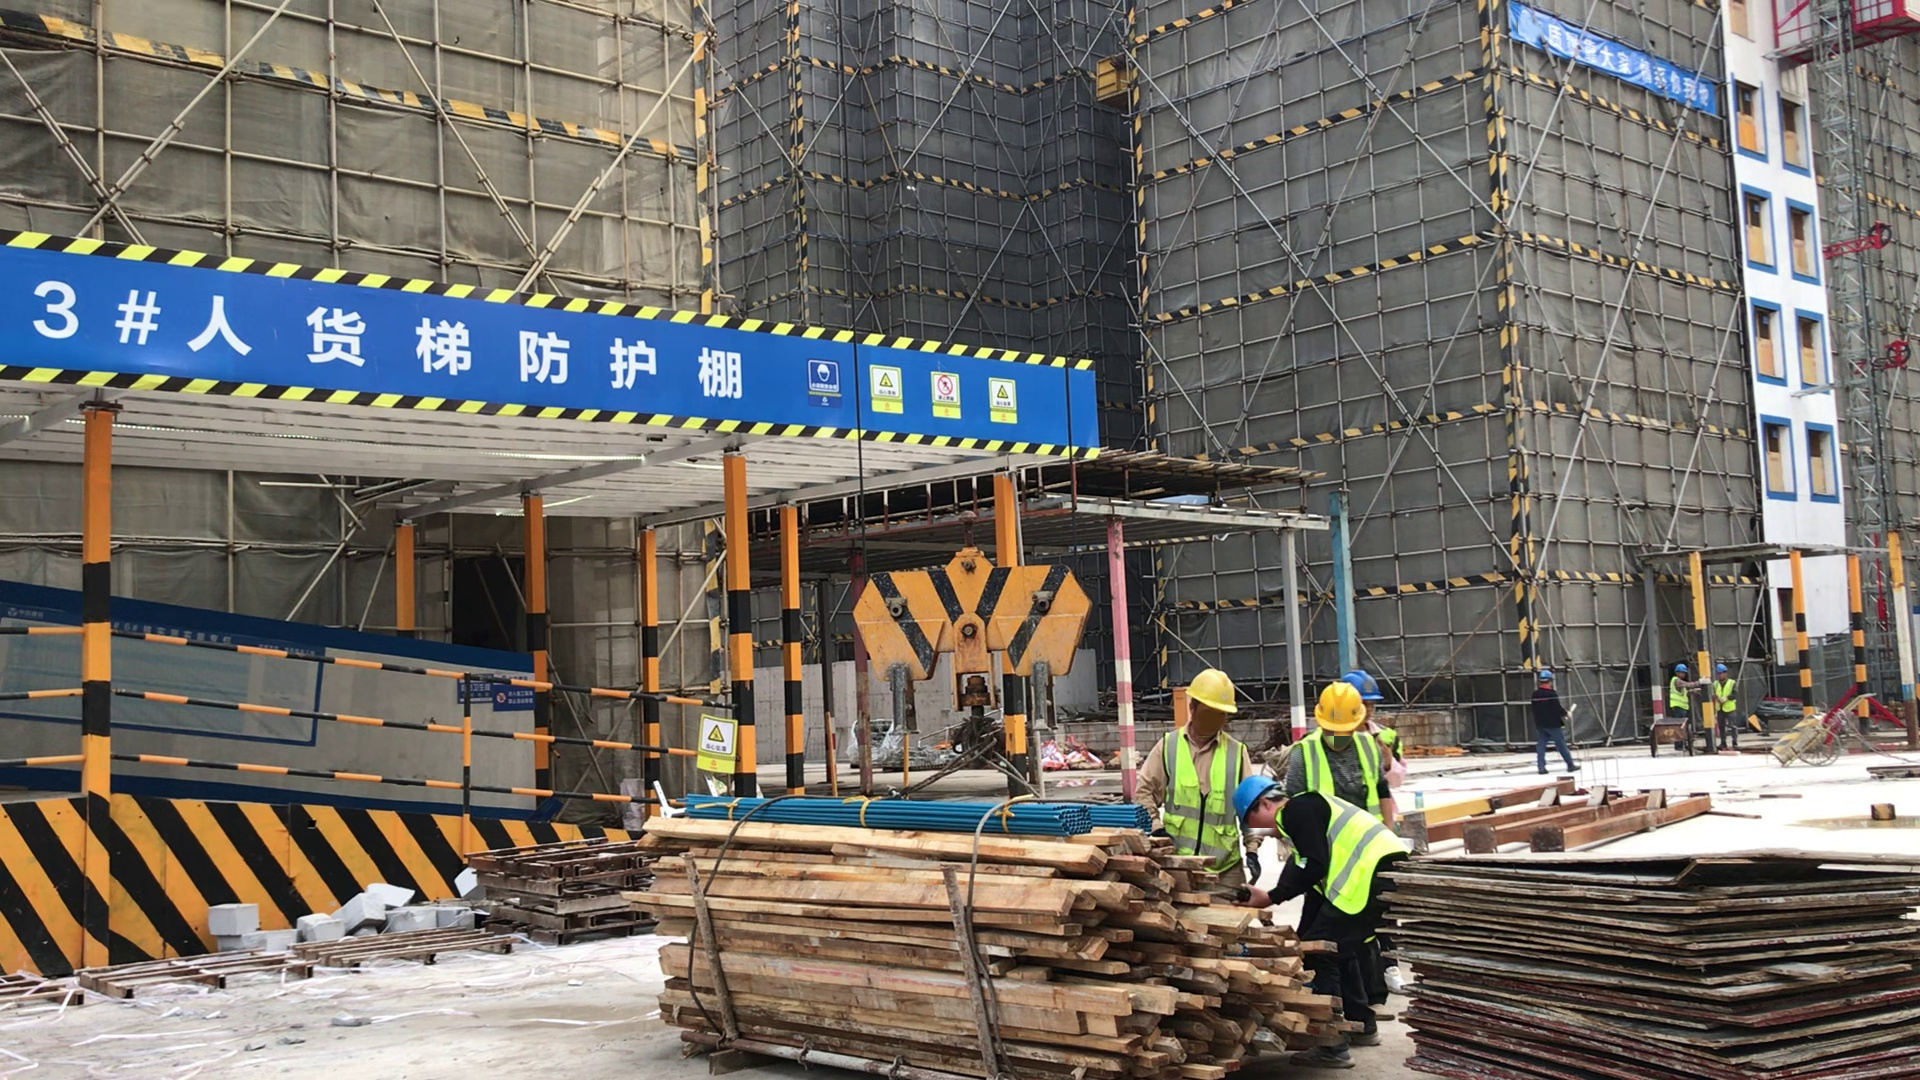board: (1381, 848, 1920, 1077)
handcart: (1774, 693, 1870, 776)
helmet: (1184, 662, 1236, 714), (1316, 683, 1360, 730), (1230, 773, 1268, 825), (1345, 668, 1379, 703), (1537, 669, 1555, 682), (1673, 664, 1687, 672), (1715, 663, 1726, 673)
hook: (849, 548, 1093, 690)
person: (1220, 771, 1411, 995), (1131, 664, 1264, 871), (1285, 684, 1404, 847), (1343, 664, 1399, 792), (1522, 668, 1583, 777), (1710, 661, 1740, 752), (1667, 662, 1695, 719)
slogan: (1506, 1, 1721, 116)
vest: (1291, 799, 1399, 908), (1162, 725, 1242, 856), (1296, 734, 1382, 815), (1713, 677, 1736, 709), (1669, 674, 1689, 711)
wood: (641, 816, 1343, 1080)
